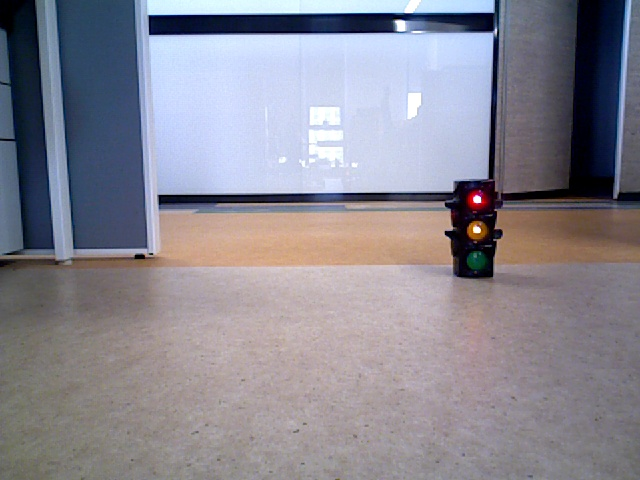red: (454, 185, 492, 275)
